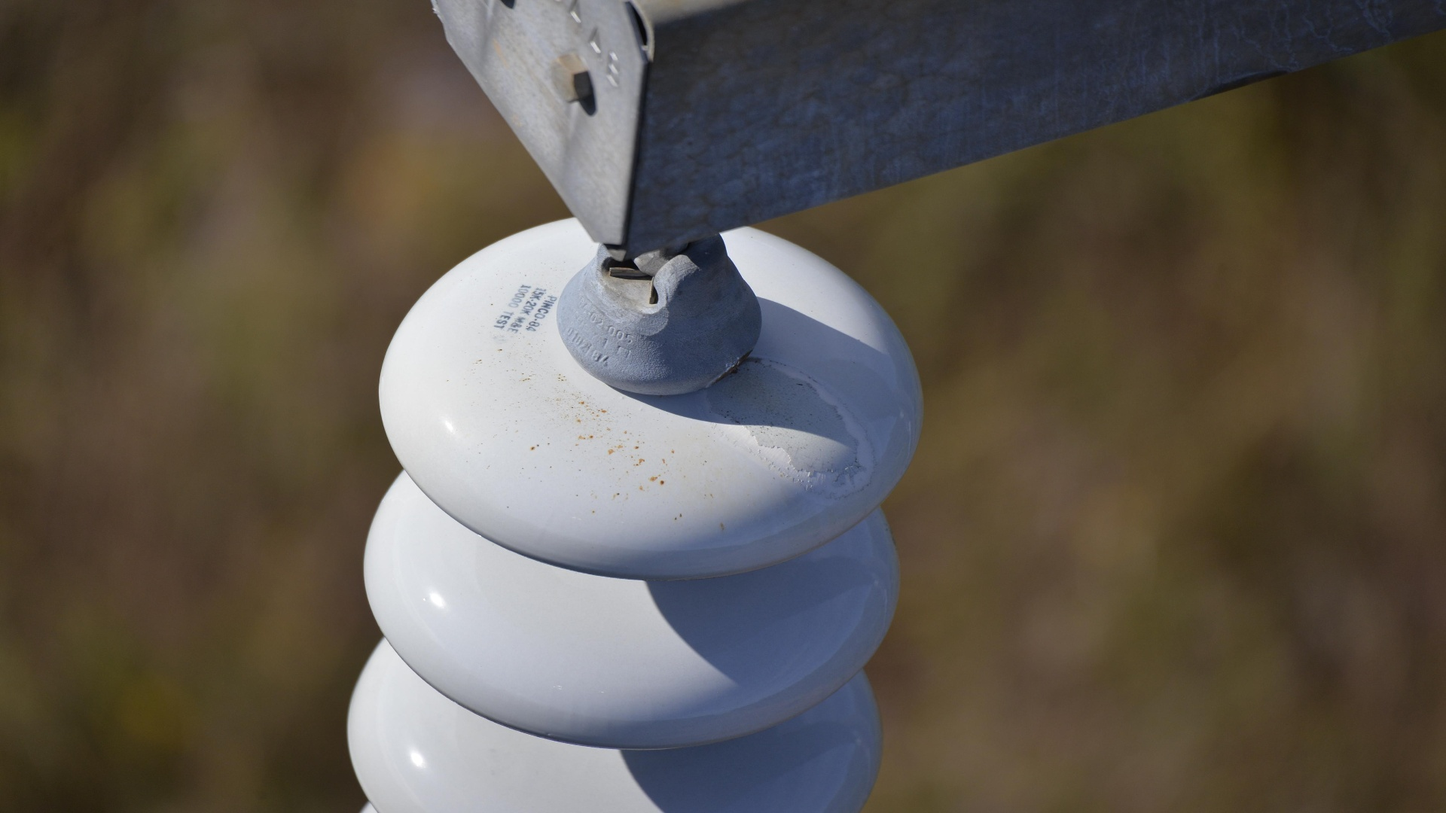insulator: (341, 215, 934, 813)
